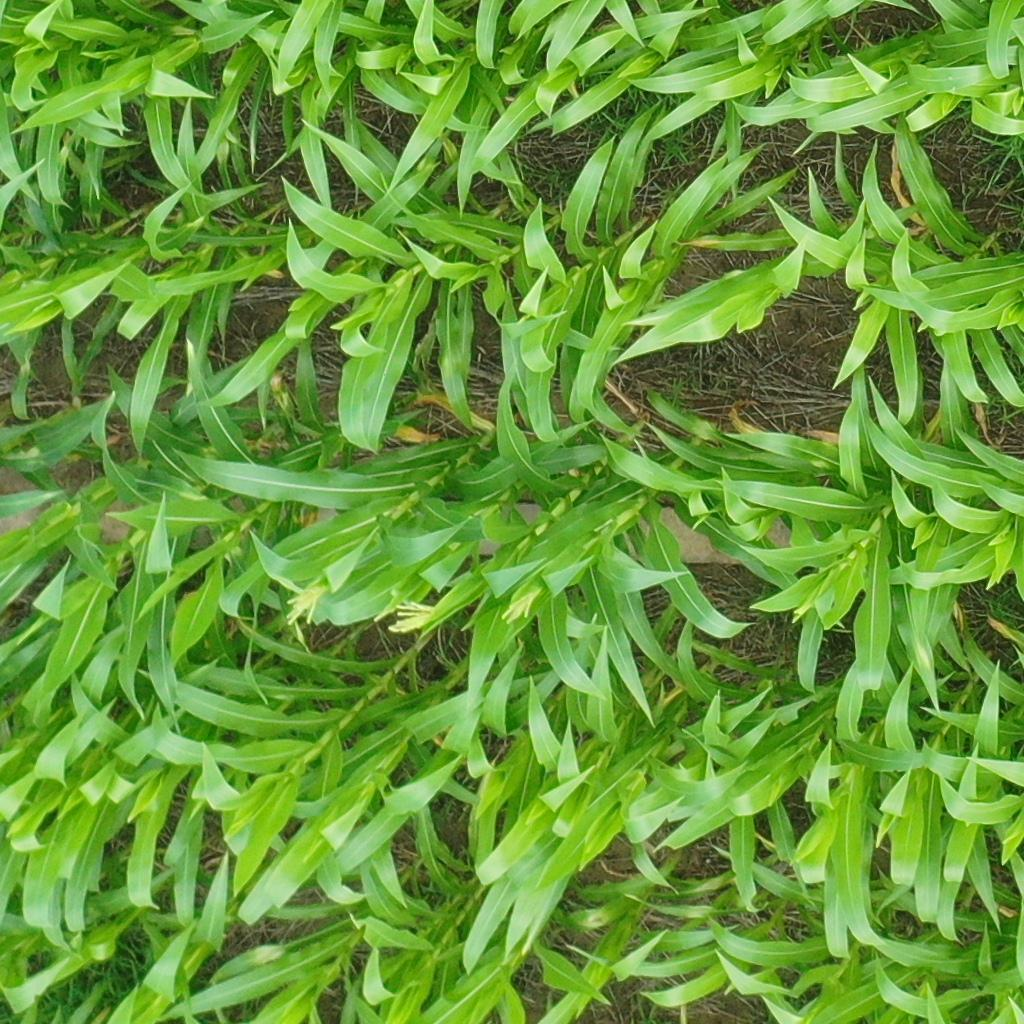Tassel: (379, 593, 434, 638), (280, 579, 329, 628), (500, 583, 538, 623)
